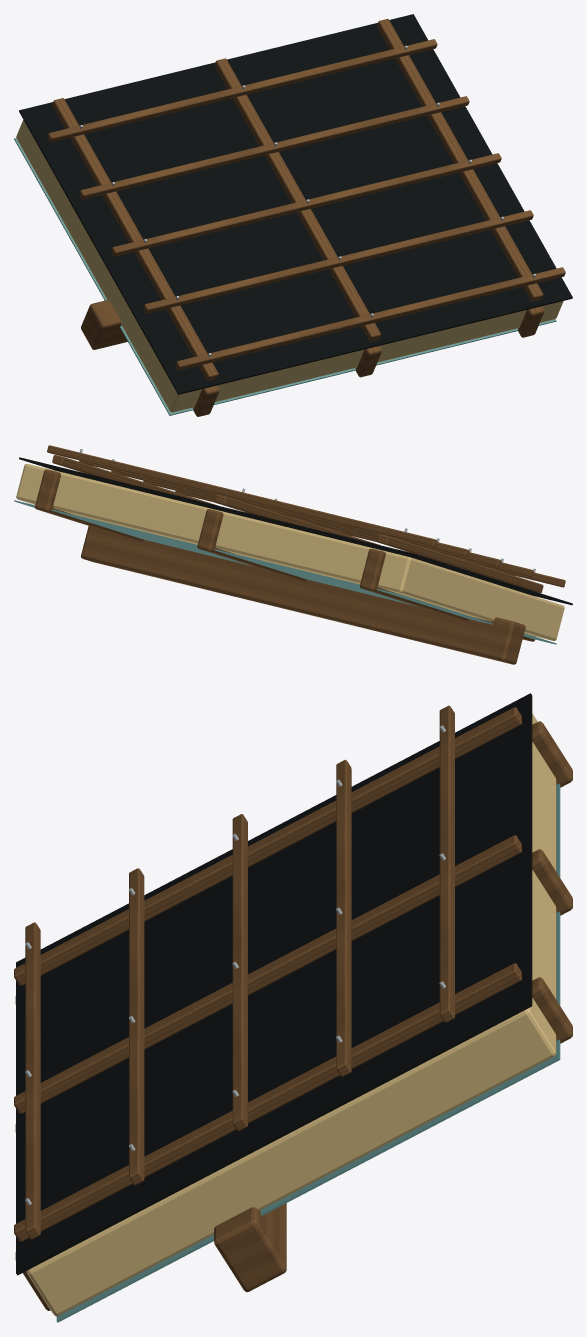
File: modell.glb
3 views of the same model, one above another, from view 1: azimuth 30°, elevation 25°; view 2: azimuth 150°, elevation 25°; view 3: azimuth 270°, elevation 25° (orthographic). The views are drawn at different scales.
Parts seen in each view (by area): view 1: g02-zusatzebene_zusatzebene, g02-lattung_lattung, g02-daemmung_daemmung, g02-luftdichtheit_luftdichtheit, g02-sparren_tragwerk, g02-pfette_tragwerk; view 2: g02-daemmung_daemmung, g02-pfette_tragwerk, g02-lattung_lattung, g02-sparren_tragwerk, g02-zusatzebene_zusatzebene, g02-luftdichtheit_luftdichtheit; view 3: g02-zusatzebene_zusatzebene, g02-lattung_lattung, g02-daemmung_daemmung, g02-pfette_tragwerk, g02-luftdichtheit_luftdichtheit, g02-sparren_tragwerk.
Boxes of the visible parts, x1,y1,x2,y2 form: g02-zusatzebene_zusatzebene: (19, 14, 572, 394); g02-lattung_lattung: (47, 18, 565, 380); g02-daemmung_daemmung: (16, 120, 563, 412); g02-luftdichtheit_luftdichtheit: (14, 138, 556, 415); g02-sparren_tragwerk: (193, 306, 544, 416); g02-pfette_tragwerk: (81, 299, 127, 349); g02-daemmung_daemmung: (16, 463, 564, 640); g02-pfette_tragwerk: (81, 526, 525, 664); g02-lattung_lattung: (47, 445, 565, 592); g02-sparren_tragwerk: (35, 469, 534, 641); g02-zusatzebene_zusatzebene: (19, 457, 572, 605); g02-luftdichtheit_luftdichtheit: (14, 500, 556, 644); g02-zusatzebene_zusatzebene: (16, 693, 532, 1275); g02-lattung_lattung: (14, 705, 521, 1242); g02-daemmung_daemmung: (27, 713, 556, 1316); g02-pfette_tragwerk: (214, 1203, 286, 1292); g02-luftdichtheit_luftdichtheit: (56, 783, 560, 1322); g02-sparren_tragwerk: (15, 721, 572, 1310).
Size of the model in its own units: 2.25 by 1.07 by 1.59.
Materials: 5 (1 with a texture image).
